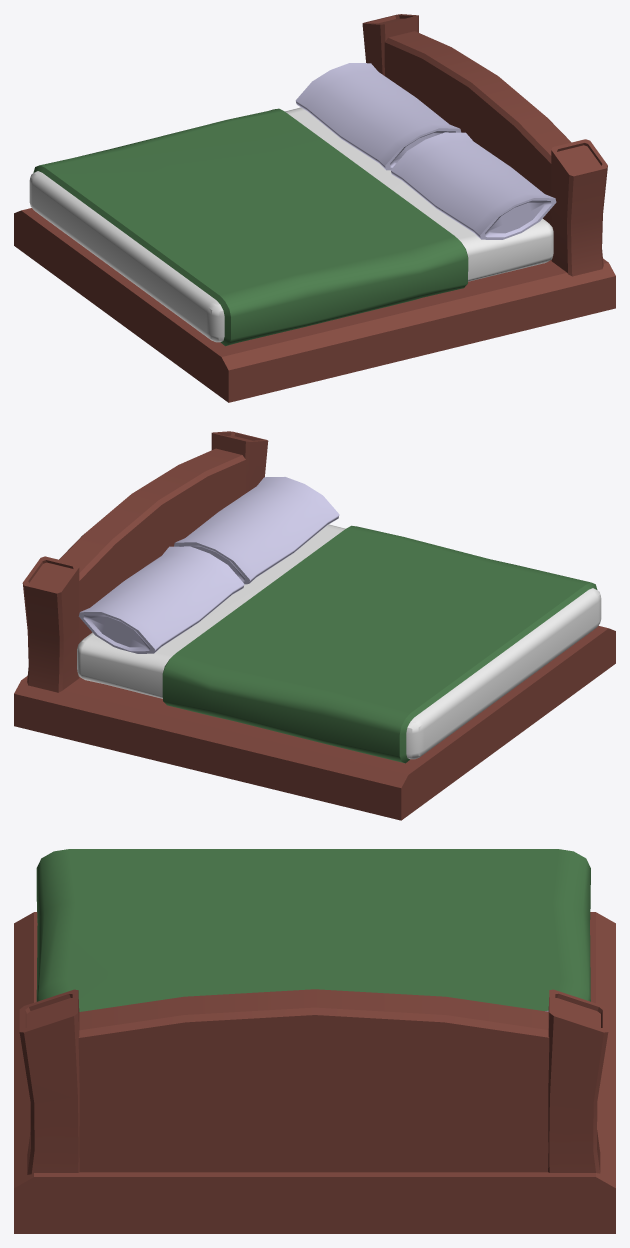
The model's file is BigBed.fbx.
The picture shows the model from 3 angles, top to bottom: view 1: azimuth 30°, elevation 25°; view 2: azimuth 150°, elevation 25°; view 3: azimuth 270°, elevation 25°; orthographic projection. The views are drawn at different scales.
Visible parts, largest first — view 1: polySurface7.008, polySurface7.001, polySurface7.007, polySurface7.002, polySurface7.005, polySurface7.006, polySurface7.003, polySurface7.004; view 2: polySurface7.008, polySurface7.001, polySurface7.007, polySurface7.002, polySurface7.006, polySurface7.005, polySurface7.004, polySurface7.003; view 3: polySurface7.002, polySurface7.008, polySurface7.001, polySurface7.003, polySurface7.004.
Part boxes in pixels (x1,y1,x2,y2): polySurface7.008: [33, 108, 468, 346]; polySurface7.001: [14, 208, 615, 402]; polySurface7.007: [29, 107, 553, 342]; polySurface7.002: [384, 31, 571, 225]; polySurface7.005: [390, 132, 556, 239]; polySurface7.006: [295, 63, 461, 170]; polySurface7.003: [551, 139, 607, 276]; polySurface7.004: [362, 14, 418, 75]; polySurface7.008: [162, 525, 597, 763]; polySurface7.001: [14, 625, 615, 820]; polySurface7.007: [77, 524, 601, 759]; polySurface7.002: [59, 448, 246, 643]; polySurface7.006: [78, 546, 244, 653]; polySurface7.005: [174, 477, 339, 584]; polySurface7.004: [22, 556, 79, 692]; polySurface7.003: [211, 431, 268, 492]; polySurface7.002: [78, 989, 549, 1172]; polySurface7.008: [36, 849, 590, 1011]; polySurface7.001: [14, 912, 615, 1233]; polySurface7.003: [19, 989, 79, 1174]; polySurface7.004: [548, 989, 608, 1173].
Size of the model in its own units: 20118 by 7714 by 19200.
